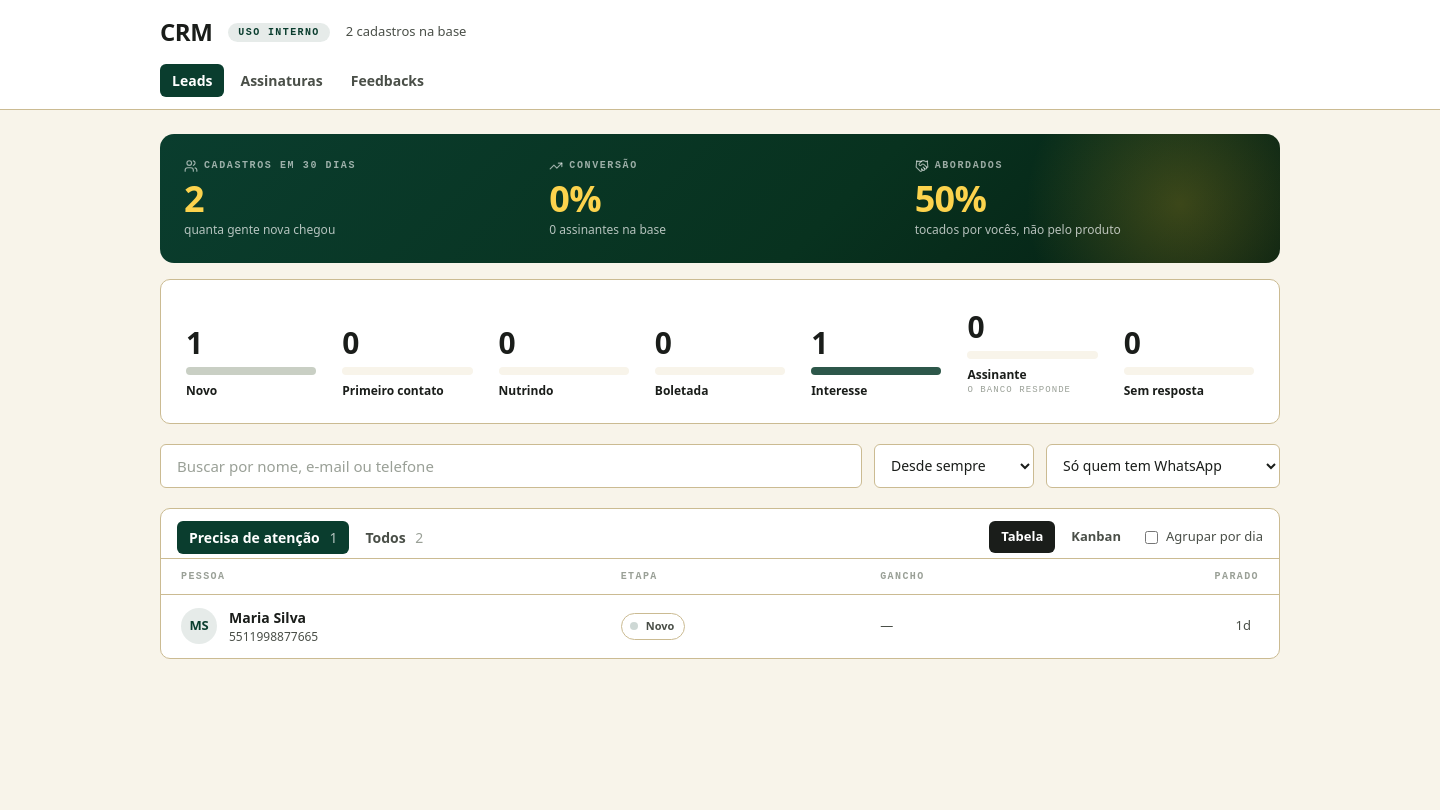
Test: PainelCrm · a lista › trocar para Todos mostra a base inteira
Expected: the text "João Souza" is not shown
Click the radio button labelled "Todos 2" at (394, 537), box [353,520,435,554]
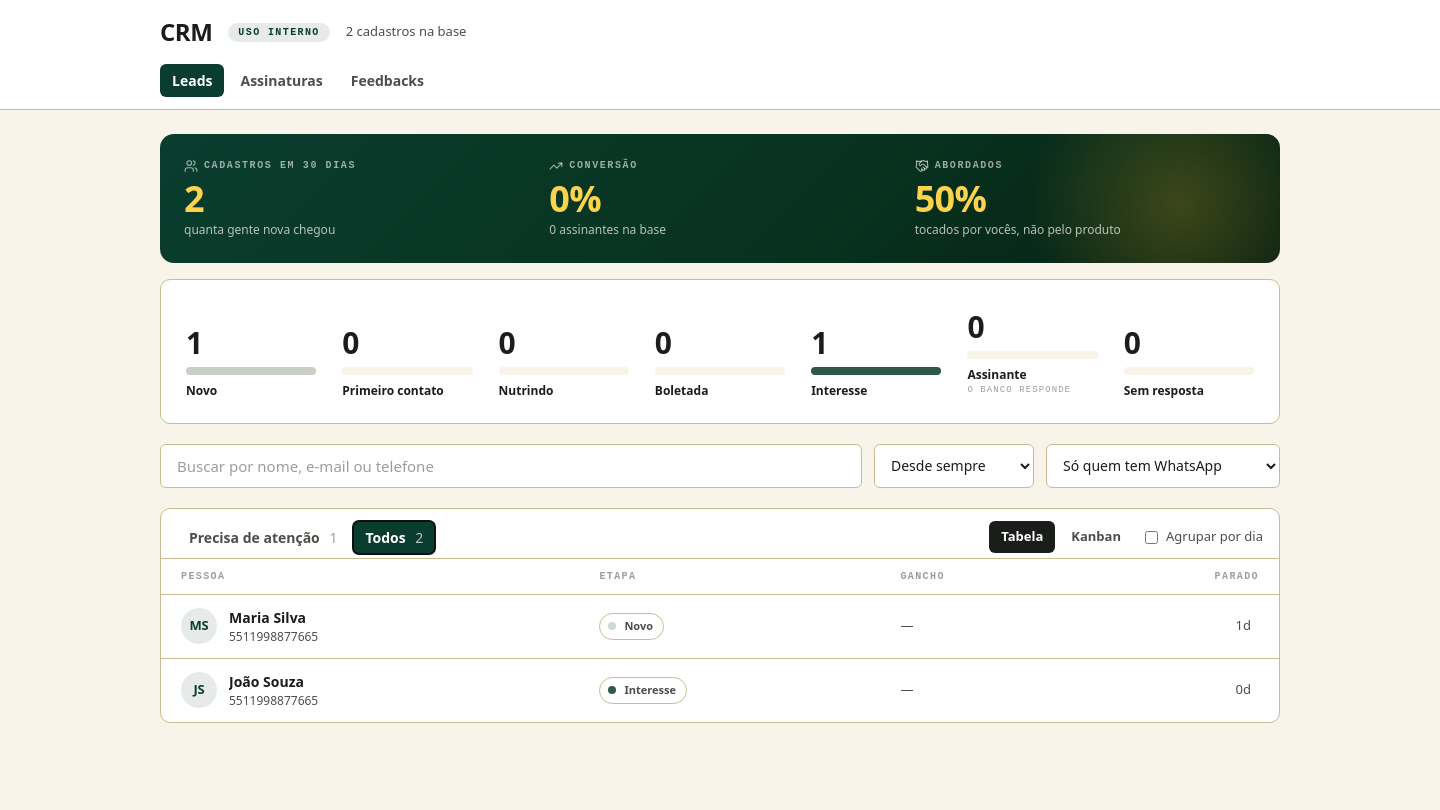
Result: the link "João Souza" is shown at [229,670,304,692]
